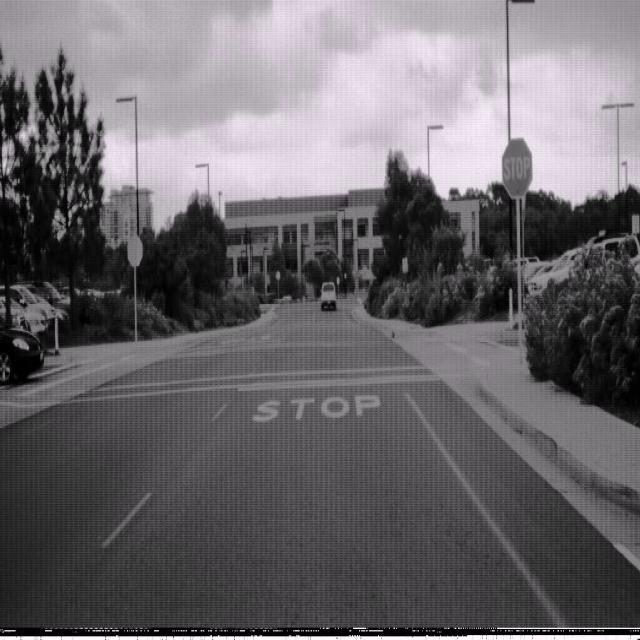stop_sign: (501, 136, 533, 200)
